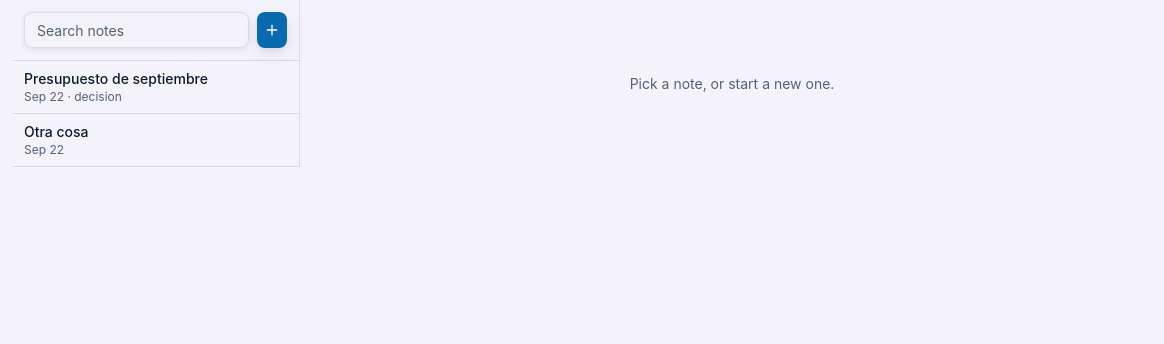
Test: the notes page › shows a meeting suggestion with its reason, and does not link it by itself
What coordinates should you click on to do the following:
click the text "Presupuesto de septiembre"
I would click on:
 (116, 78)
Its box is [24, 70, 208, 87].
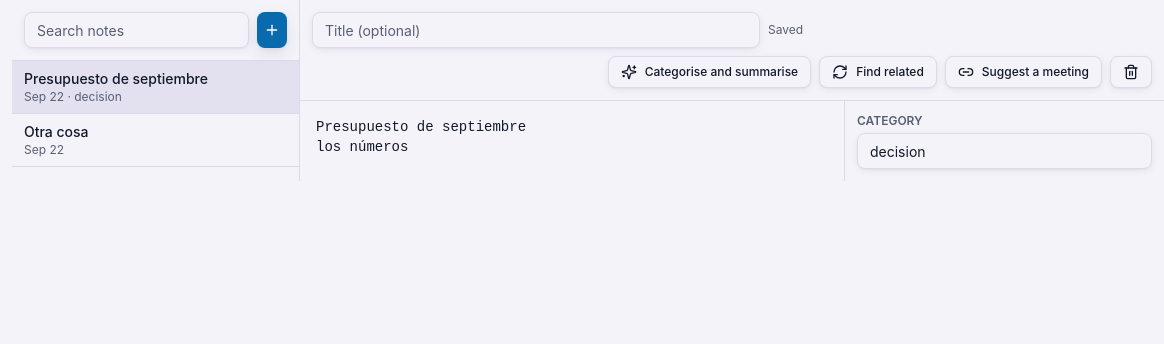
What coordinates should you click on to do the following:
click the button "Suggest a meeting"
I would click on:
 (1023, 72)
Its box is [945, 56, 1102, 88].
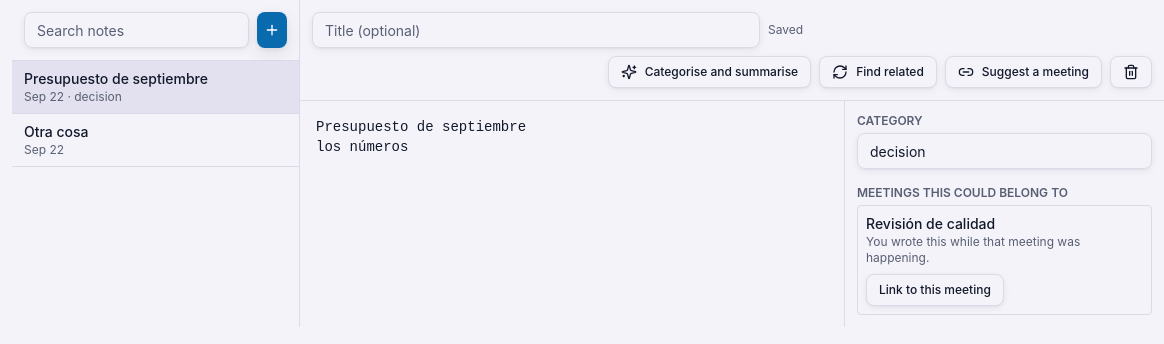
Check: the text "You wrote this while that meeting was happening." is shown, box [866, 234, 1080, 265]
Check: the button "Link to this meeting" is shown, box [866, 274, 1004, 306]
